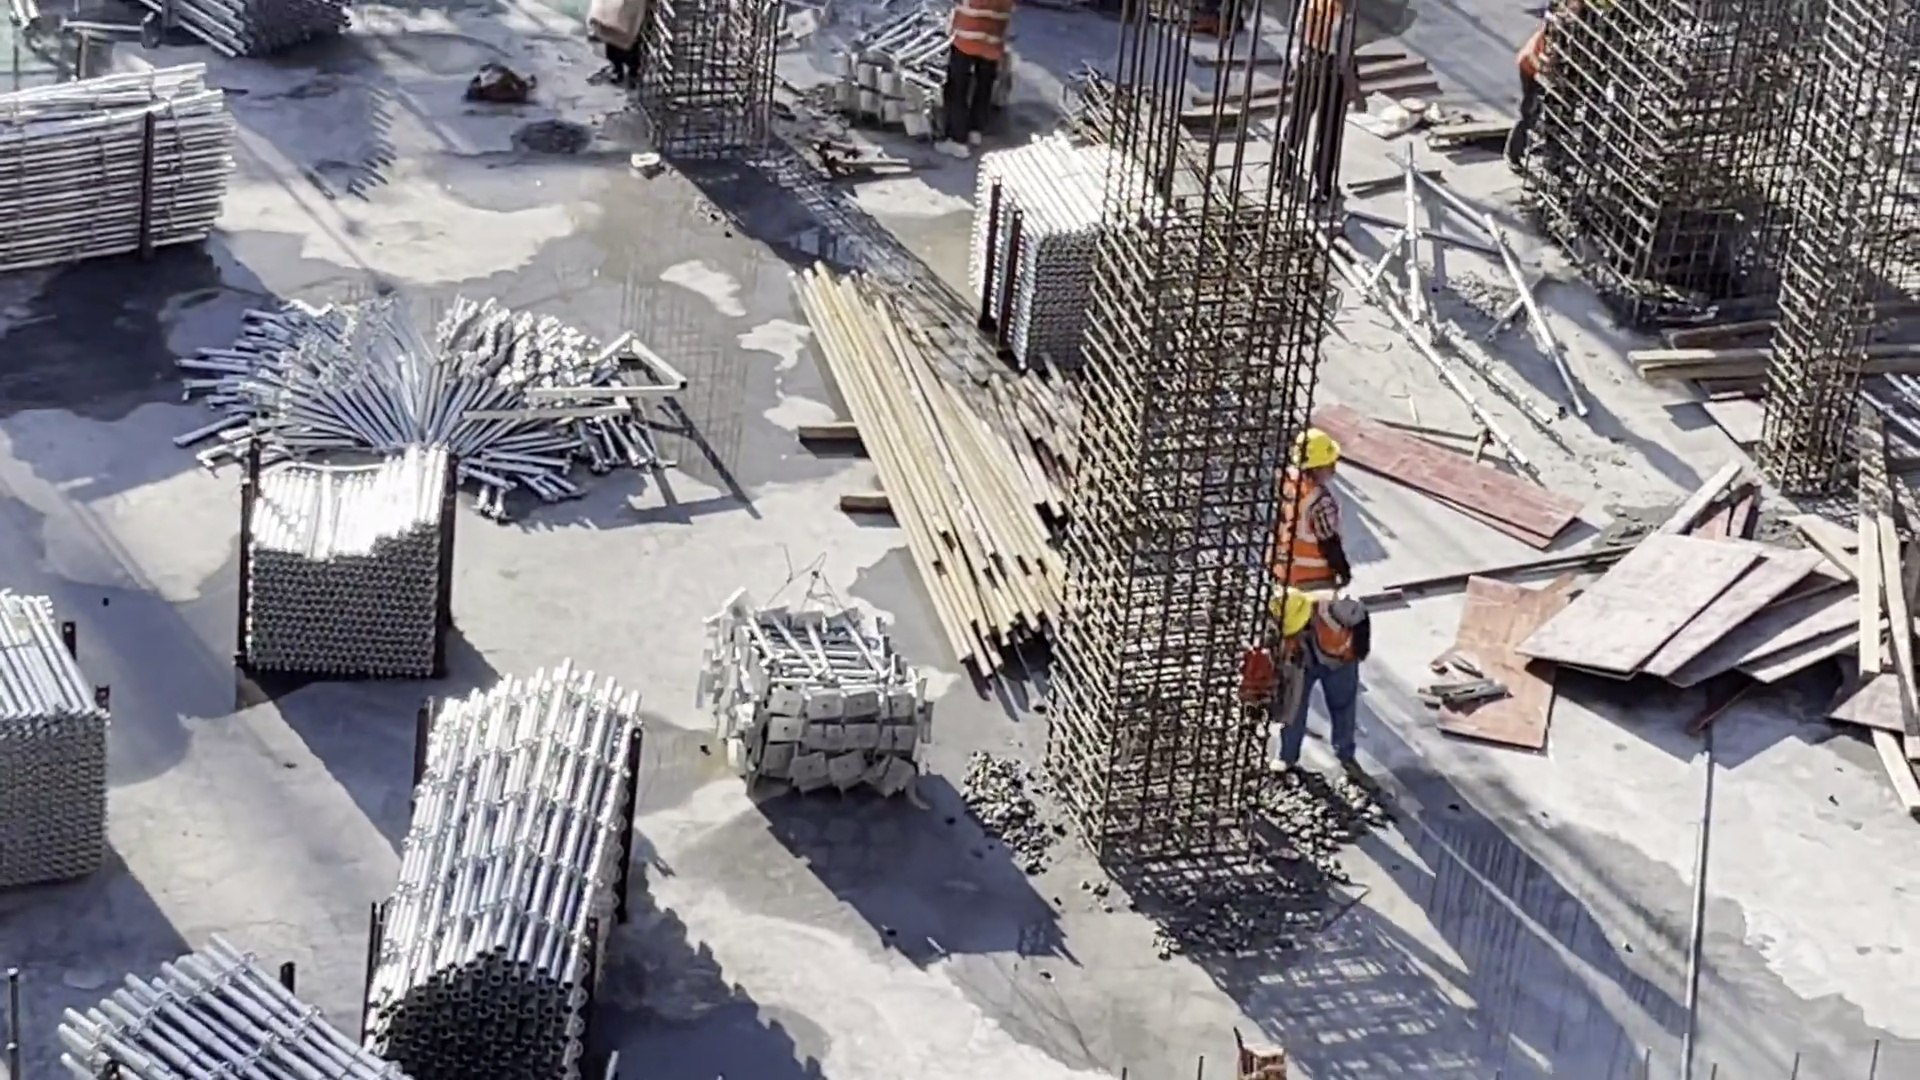board: (1331, 400, 1869, 713)
helmet: (1264, 587, 1316, 634), (1290, 430, 1346, 472)
person: (1269, 419, 1348, 711), (1252, 590, 1364, 787), (917, 1, 1015, 153)
rebar: (771, 230, 1143, 680)
scaffold: (364, 670, 644, 1080), (953, 111, 1196, 382), (689, 557, 930, 807), (60, 911, 393, 1080), (223, 455, 465, 682), (1, 62, 232, 280), (1, 583, 141, 894), (166, 1, 344, 57)
vest: (950, 1, 1009, 83), (1278, 482, 1330, 568)
